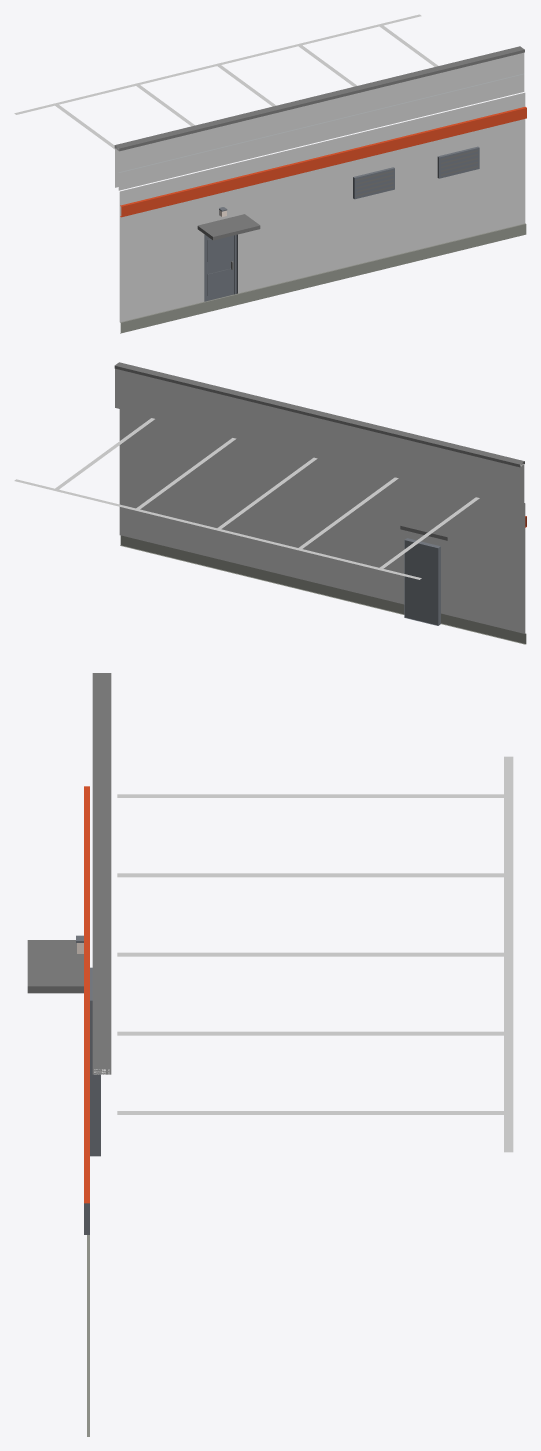
File: base-w4_close.fbx
3 views of the same model, one above another, from view 1: azimuth 30°, elevation 25°; view 2: azimuth 150°, elevation 25°; view 3: azimuth 270°, elevation 25° (orthographic). The views are drawn at different scales.
Parts seen in each view (by area): view 1: a2008/0/base-w4_close; view 2: a2008/0/base-w4_close; view 3: a2008/0/base-w4_close.
Boxes of the visible parts, box(x1,y1,x2,y2) form: a2008/0/base-w4_close: box(14, 14, 526, 333); a2008/0/base-w4_close: box(14, 362, 526, 644); a2008/0/base-w4_close: box(27, 673, 513, 1436).
Size of the model in its own units: 12 by 5.2 by 6.22.
